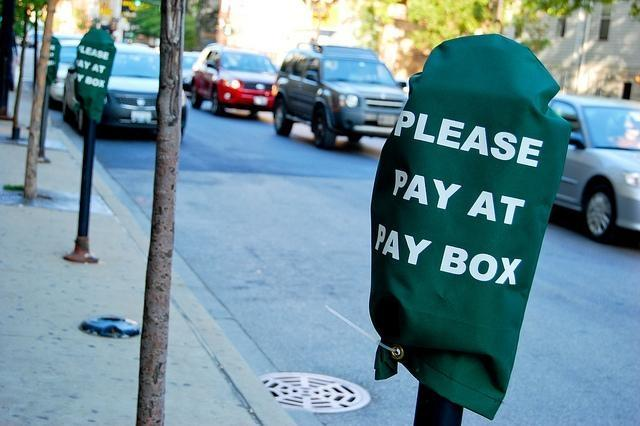car: (271, 44, 409, 148), (552, 97, 640, 236), (100, 43, 166, 140), (188, 43, 274, 114), (48, 39, 82, 111), (151, 48, 199, 84)
